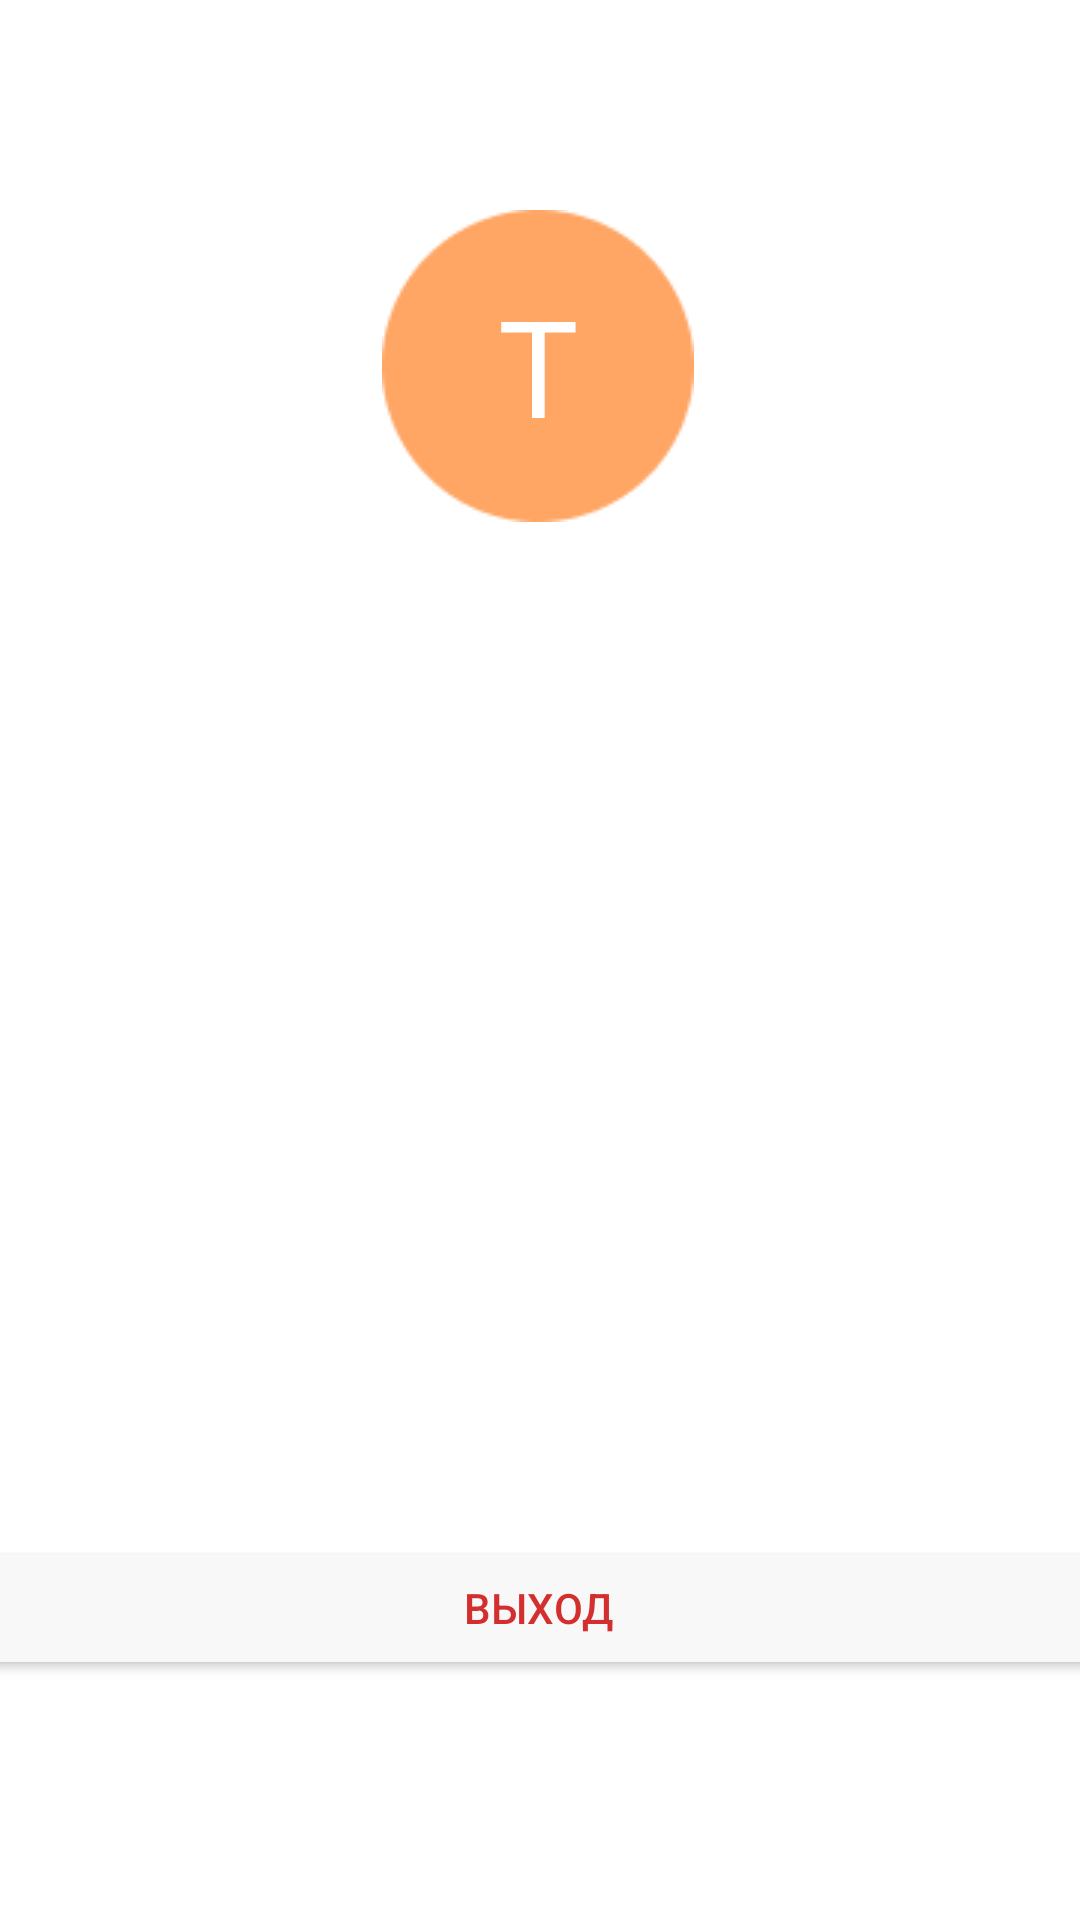

Locate icon controls on the screen. Image size 1080*1920, boxes as box=[x1, y1, x2, y2].
krug: box=[382, 210, 694, 522]
